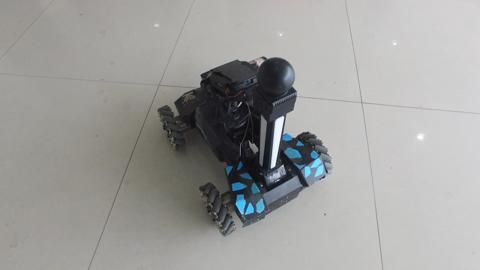chariot: (154, 50, 317, 219)
